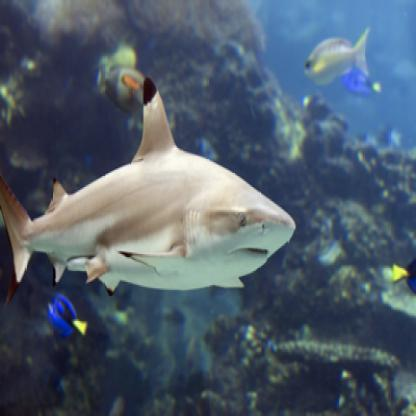shark: (2, 76, 304, 292)
